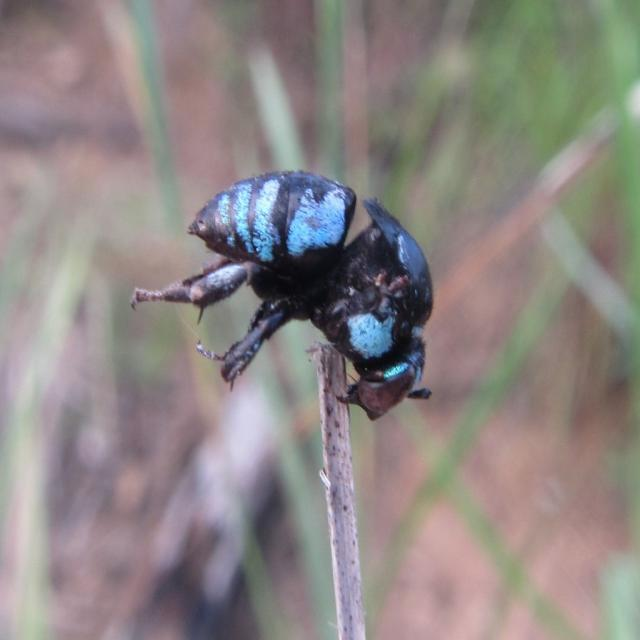Thyreus: (128, 156, 440, 430)
